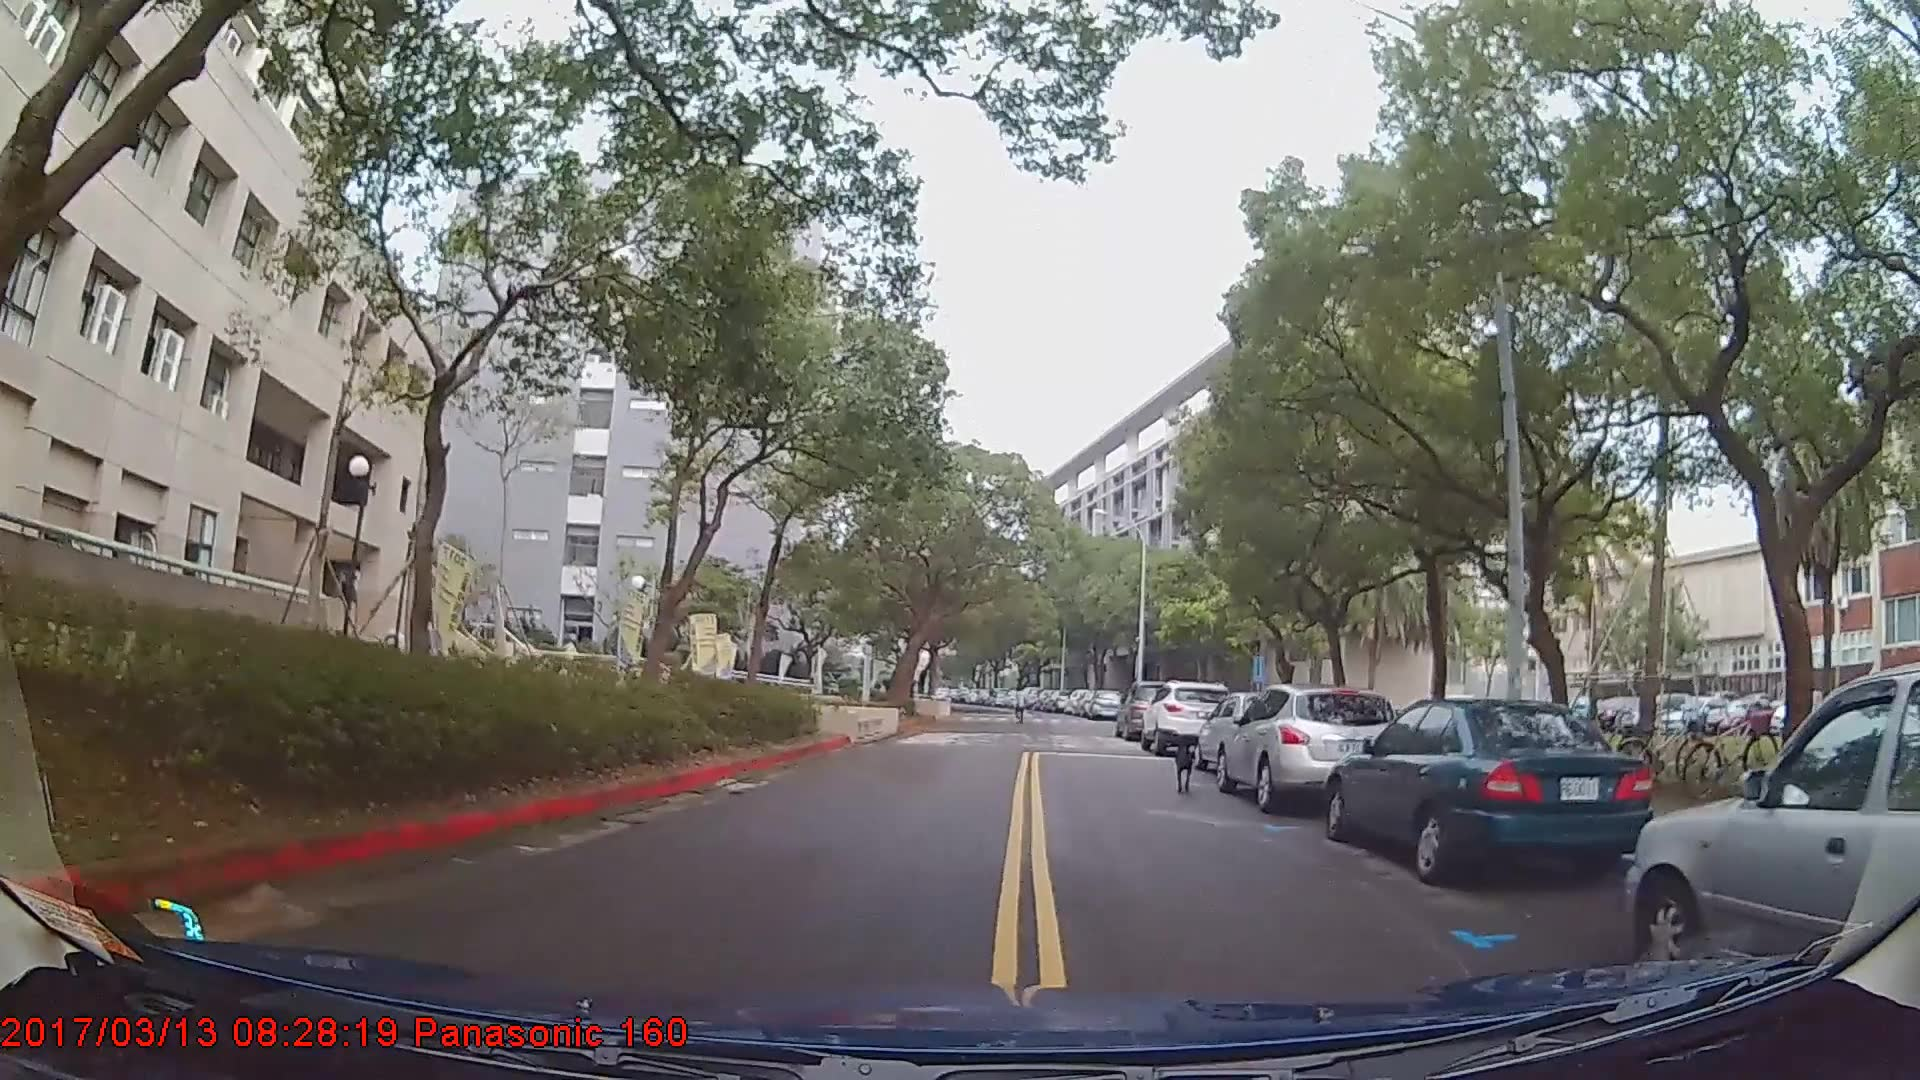pedestrian: (1009, 685, 1029, 725)
vehicle: (1629, 655, 1920, 1000), (1322, 694, 1653, 881), (1213, 684, 1402, 816), (1141, 680, 1234, 755), (1114, 680, 1183, 742), (1085, 684, 1123, 717)
